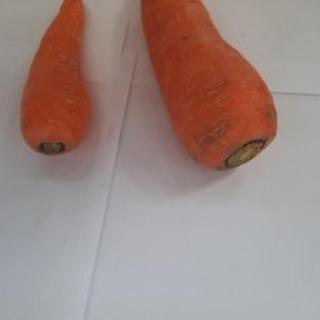carrot: (138, 0, 280, 170), (17, 0, 94, 156)
